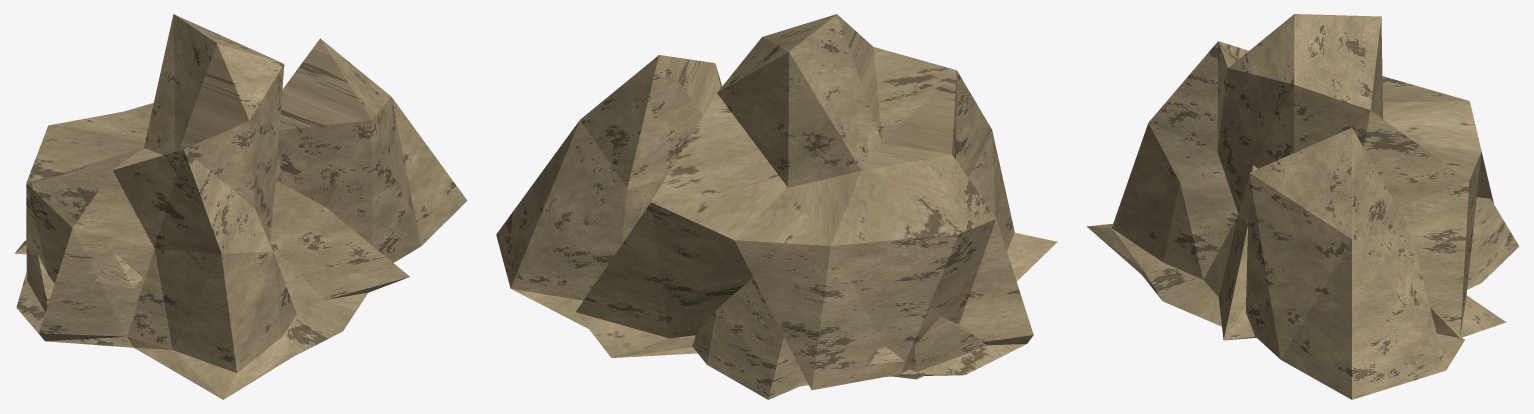
File: ae_battle_rock_cluster_lod0.glb
3 views of the same model, side by side, from view 1: azimuth 30°, elevation 25°; view 2: azimuth 150°, elevation 25°; view 3: azimuth 270°, elevation 25° (orthographic). The views are drawn at different scales.
Parts seen in each view (by area): view 1: ae_battle_rock_cluster_lod0; view 2: ae_battle_rock_cluster_lod0; view 3: ae_battle_rock_cluster_lod0.
Boxes of the visible parts, x1,y1,x2,y2 form: ae_battle_rock_cluster_lod0: (15, 14, 467, 399); ae_battle_rock_cluster_lod0: (496, 14, 1057, 399); ae_battle_rock_cluster_lod0: (1087, 14, 1519, 399).
Size of the model in its own units: 10.66 by 5.76 by 8.67.
Materials: 1 (1 with a texture image).
